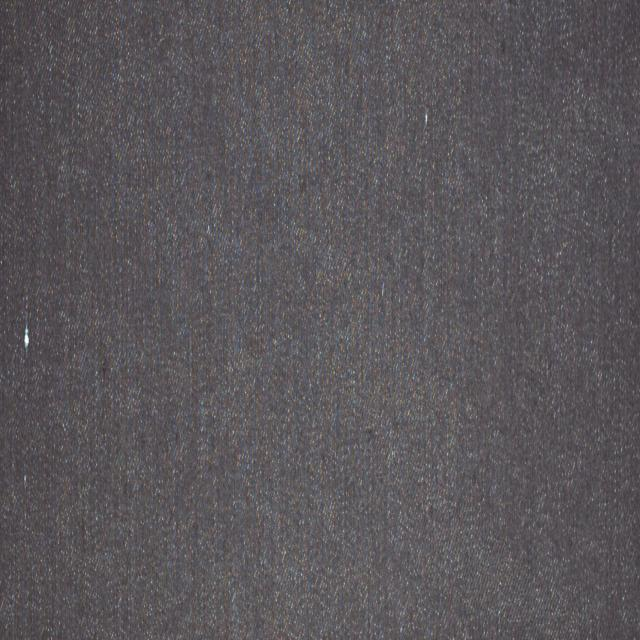Knot: (23, 321, 29, 352)
